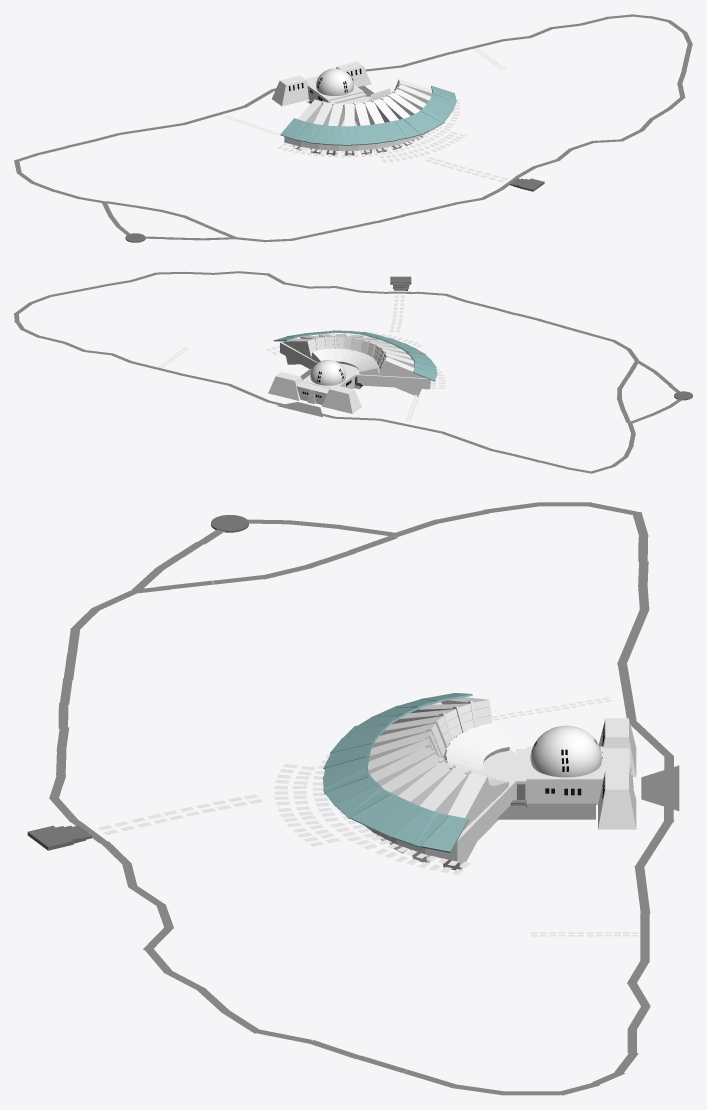
File: asmundarsafn_nyasta_utgafa_17.05_17.42.obj
3 views of the same model, one above another, from view 1: azimuth 30°, elevation 25°; view 2: azimuth 150°, elevation 25°; view 3: azimuth 270°, elevation 25° (orthographic). The views are drawn at different scales.
Visible parts, largest first — view 1: Plane.143, Cube.047, Cube.033, syningarsalur, Sphere, h_hlid, v_hlid, innanhus; view 2: Plane.143, Cube.033, syningarsalur, Cube.047, h_hlid, Sphere, v_hlid, adaldyr; view 3: Plane.143, Cube.033, Cube.047, Sphere, syningarsalur, innanhus, v_hlid, h_hlid.
Part boxes in pixels (left/top/right/bottom): Plane.143: left=14, top=14, right=692, bottom=242; Cube.047: left=280, top=85, right=456, bottom=145; Cube.033: left=293, top=79, right=432, bottom=155; syningarsalur: left=284, top=96, right=427, bottom=150; Sphere: left=316, top=68, right=353, bottom=95; h_hlid: left=272, top=75, right=308, bottom=106; v_hlid: left=336, top=61, right=371, bottom=86; innanhus: left=307, top=83, right=363, bottom=102; Plane.143: left=14, top=271, right=692, bottom=473; Cube.033: left=283, top=334, right=425, bottom=396; syningarsalur: left=280, top=334, right=430, bottom=389; Cube.047: left=273, top=330, right=437, bottom=381; h_hlid: left=321, top=385, right=361, bottom=413; Sphere: left=310, top=360, right=345, bottom=385; v_hlid: left=268, top=372, right=302, bottom=400; adaldyr: left=296, top=382, right=329, bottom=404; Plane.143: left=27, top=502, right=679, bottom=1095; Cube.033: left=368, top=697, right=509, bottom=870; Cube.047: left=322, top=693, right=472, bottom=852; Sphere: left=530, top=725, right=601, bottom=777; syningarsalur: left=365, top=702, right=515, bottom=861; innanhus: left=526, top=746, right=604, bottom=804; v_hlid: left=598, top=770, right=636, bottom=829; h_hlid: left=598, top=718, right=636, bottom=777.
Size of the model in its own units: 147 by 8.94 by 68.46.
